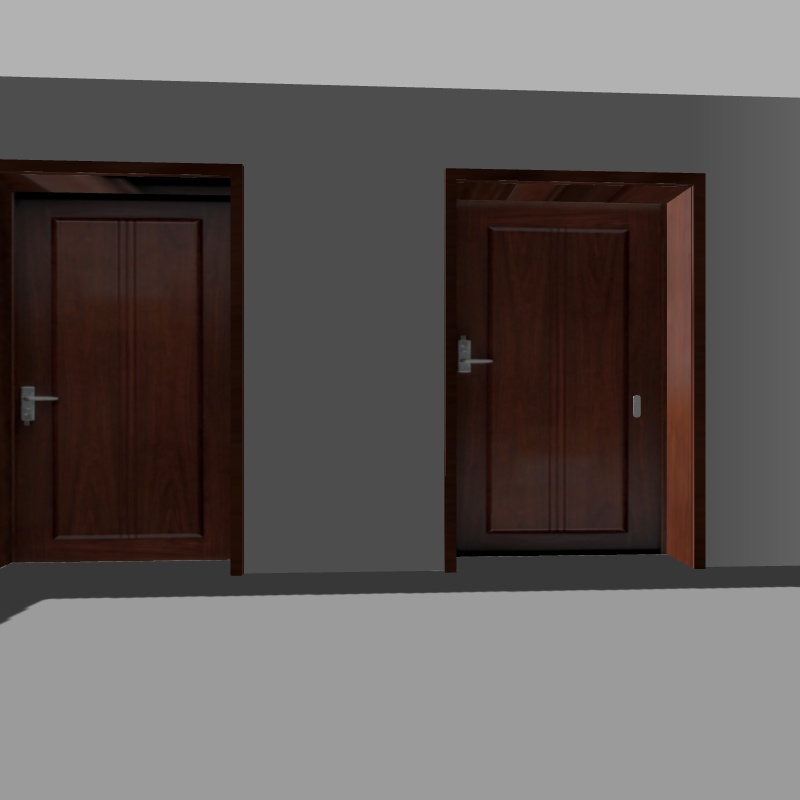handle: (12, 379, 62, 429), (446, 332, 496, 381)
